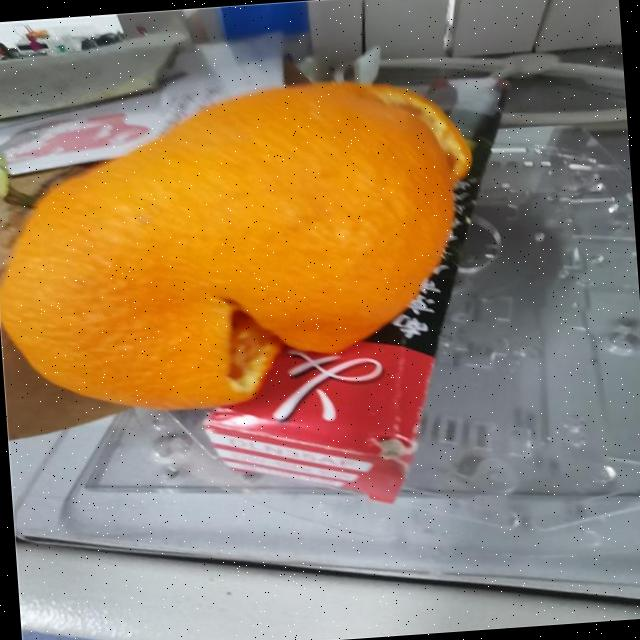orange-peel: (0, 69, 486, 422)
